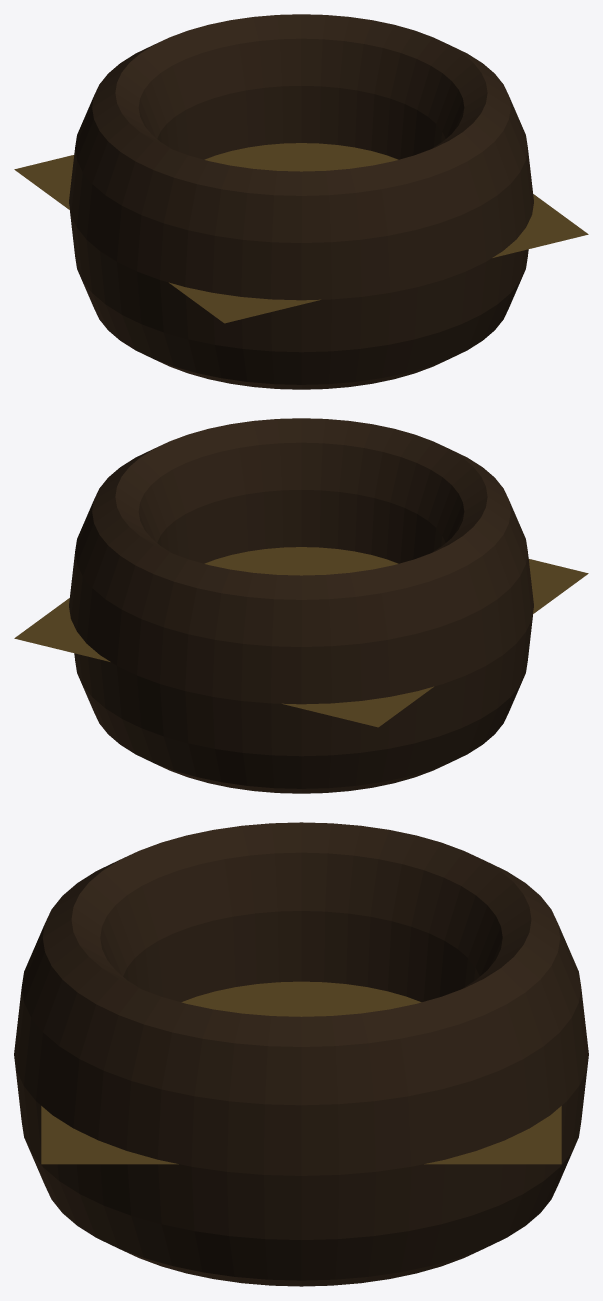
3 views of the same model, one above another, from view 1: azimuth 30°, elevation 25°; view 2: azimuth 150°, elevation 25°; view 3: azimuth 270°, elevation 25° (orthographic). The views are drawn at different scales.
Visible parts, largest first — view 1: Torus, Plane; view 2: Torus, Plane; view 3: Torus, Plane.
Boxes of the visible parts, x1,y1,x2,y2 form: Torus: [69, 14, 533, 389]; Plane: [14, 143, 588, 323]; Torus: [69, 418, 533, 793]; Plane: [14, 547, 588, 727]; Torus: [14, 822, 588, 1286]; Plane: [41, 981, 561, 1164].
Size of the model in its own units: 39.49 by 20.44 by 39.49.
